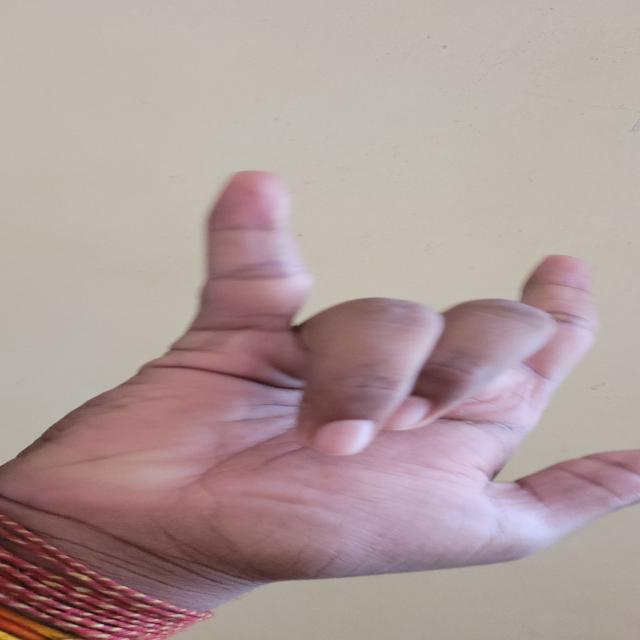i like you: (35, 157, 640, 584)
